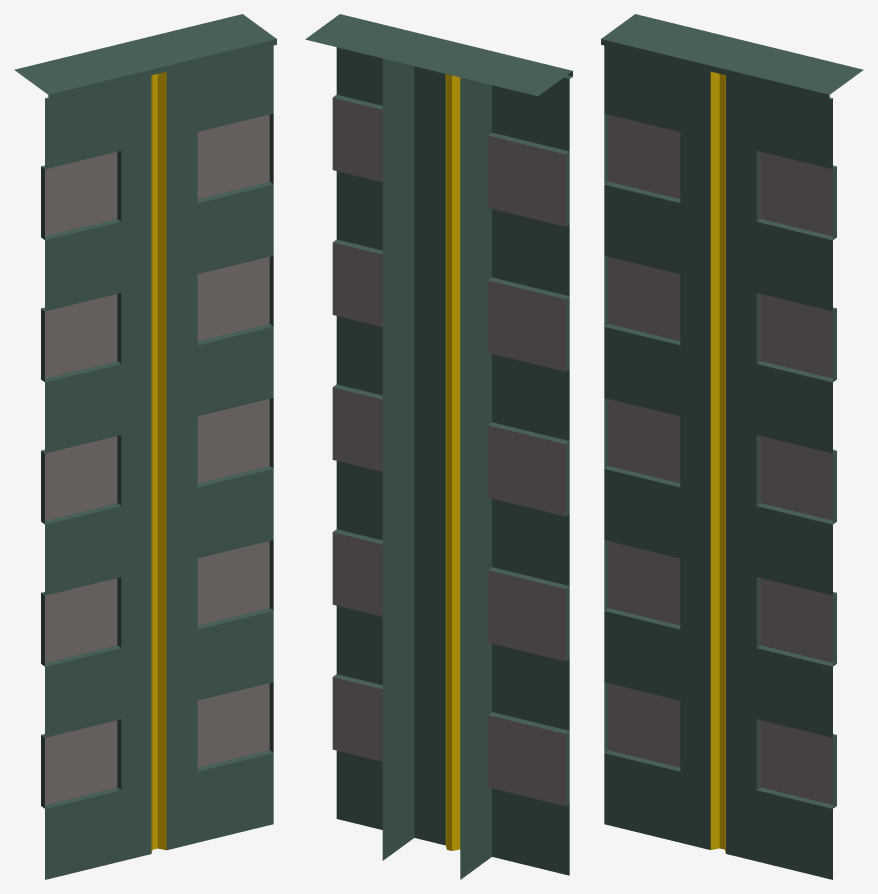
The picture shows the model from 3 angles, left to right: view 1: azimuth 30°, elevation 25°; view 2: azimuth 150°, elevation 25°; view 3: azimuth 330°, elevation 25°; orthographic projection.
Parts seen in each view (by area): view 1: Column.057; view 2: Column.057; view 3: Column.057.
Part boxes in pixels (x1=…): Column.057: x1=14, y1=14, x2=276, y2=879; Column.057: x1=305, y1=14, x2=572, y2=879; Column.057: x1=601, y1=14, x2=863, y2=879.
Size of the model in its own units: 835 by 2749 by 217.
